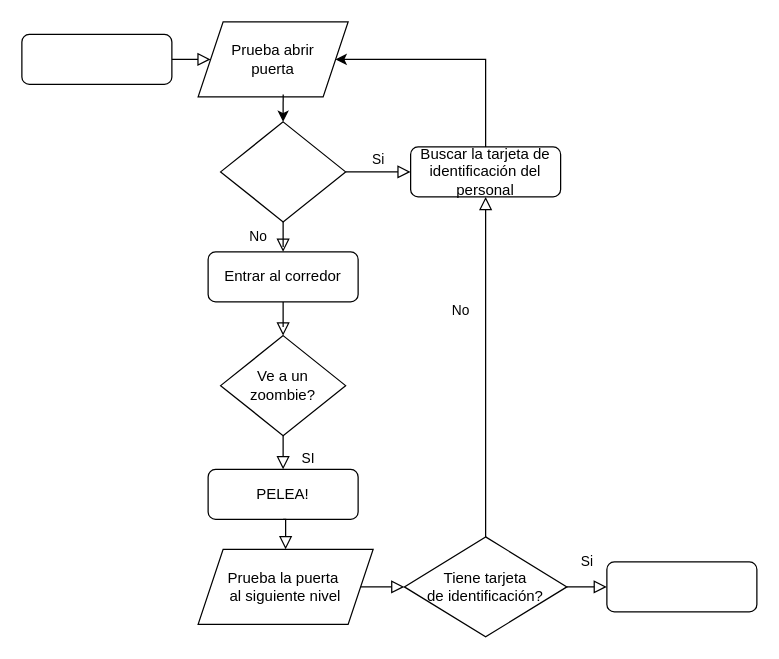
This 779x659 diagram has some shape labels left out. Each missing label, with the centre of its shape:
Entrar en habitacion: the point at 96,58
Pasa al siguiente nivel: the point at 681,586
Puerta bloqueada?: the point at 282,171
